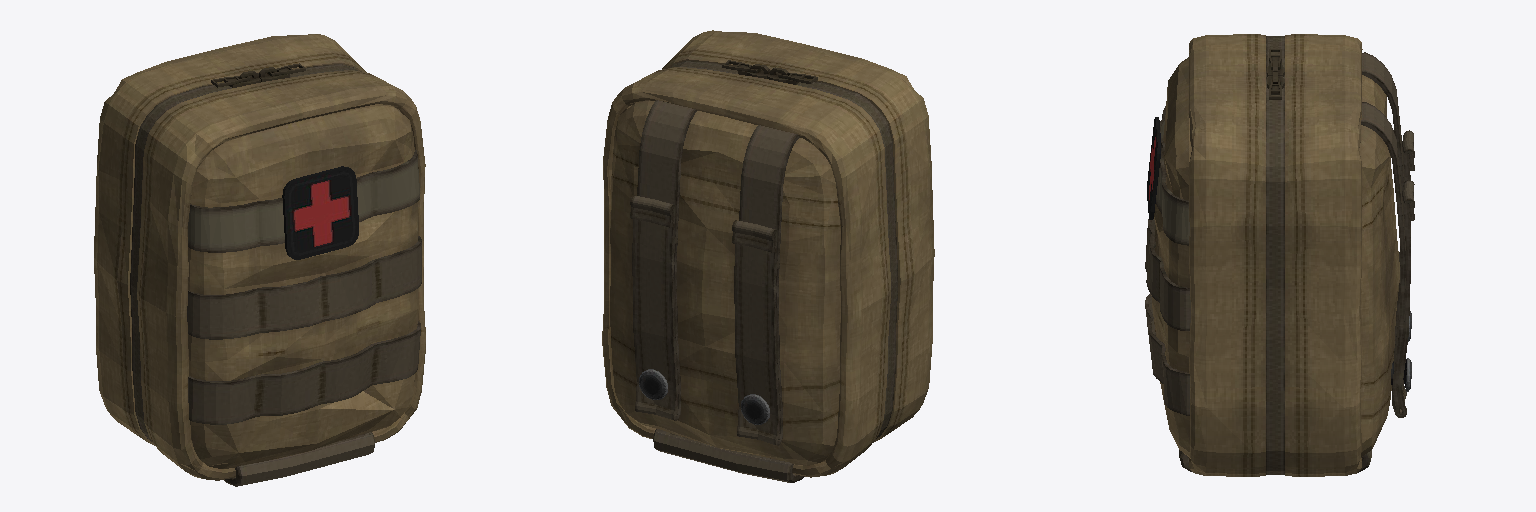
3 renders of one model, left to right at view 1: azimuth 30°, elevation 25°; view 2: azimuth 150°, elevation 25°; view 3: azimuth 270°, elevation 25°, orthographic.
Parts seen in each view (by area): view 1: AIDKIT_OLIVE; view 2: AIDKIT_OLIVE; view 3: AIDKIT_OLIVE.
Part boxes in pixels (left/top/right/bottom): AIDKIT_OLIVE: left=94, top=34, right=425, bottom=486; AIDKIT_OLIVE: left=602, top=30, right=934, bottom=482; AIDKIT_OLIVE: left=1145, top=34, right=1414, bottom=476.
Bounding box in the file's own units: 2.48 × 3.45 × 2.25.
1 materials, 1 textured.